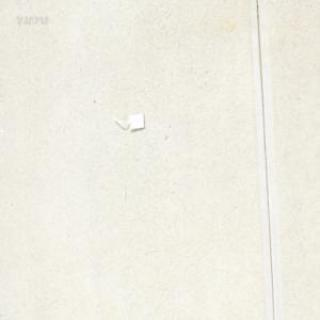LuggageTagtrack_idkeyframe: (112, 111, 144, 130)
